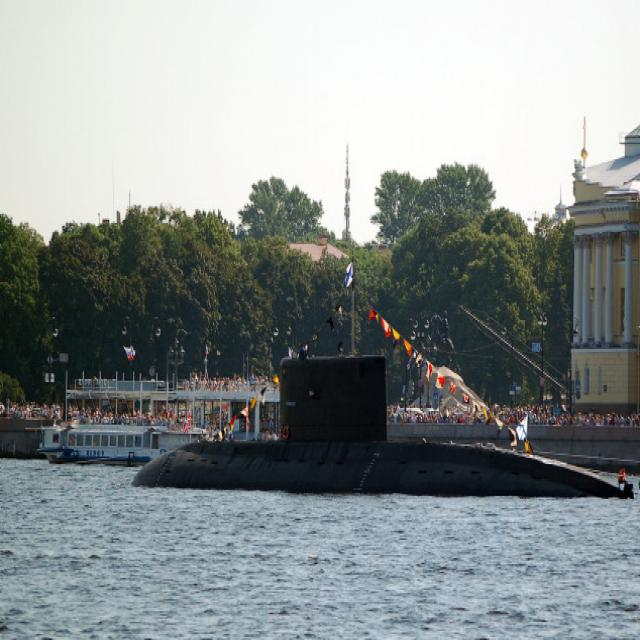submarine: (123, 353, 634, 500)
